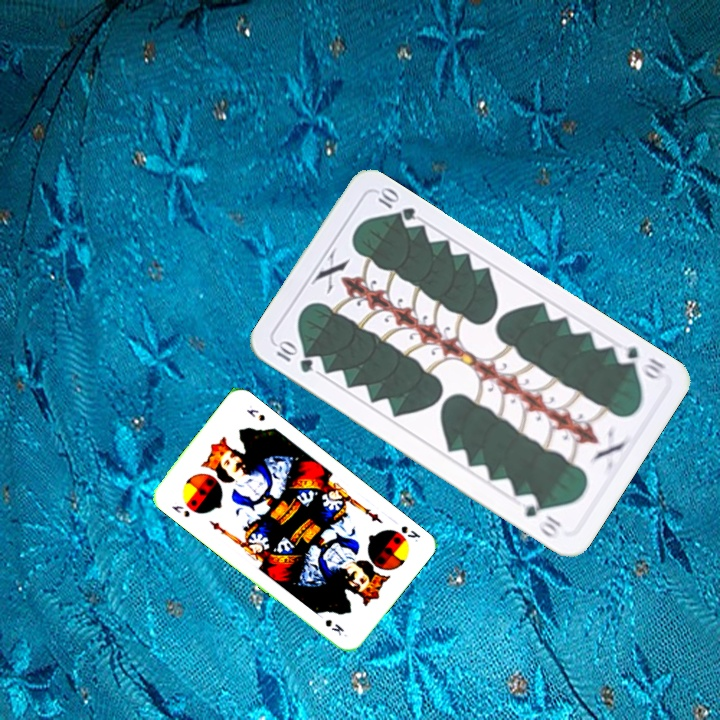G10: (610, 339, 669, 382), (270, 337, 316, 376)
SK: (397, 521, 423, 545), (167, 501, 193, 520)
